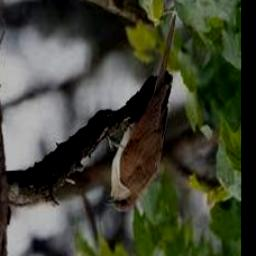Cuckoo: (104, 12, 176, 213)
